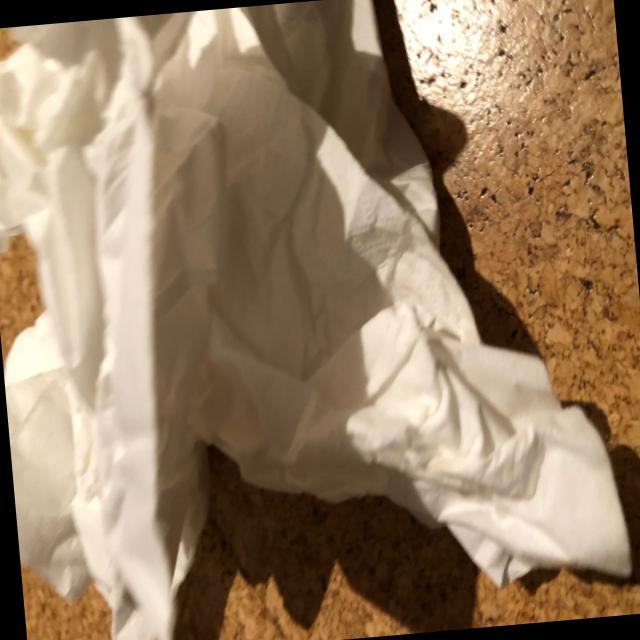organic waste: (203, 0, 637, 612), (0, 8, 262, 640)
